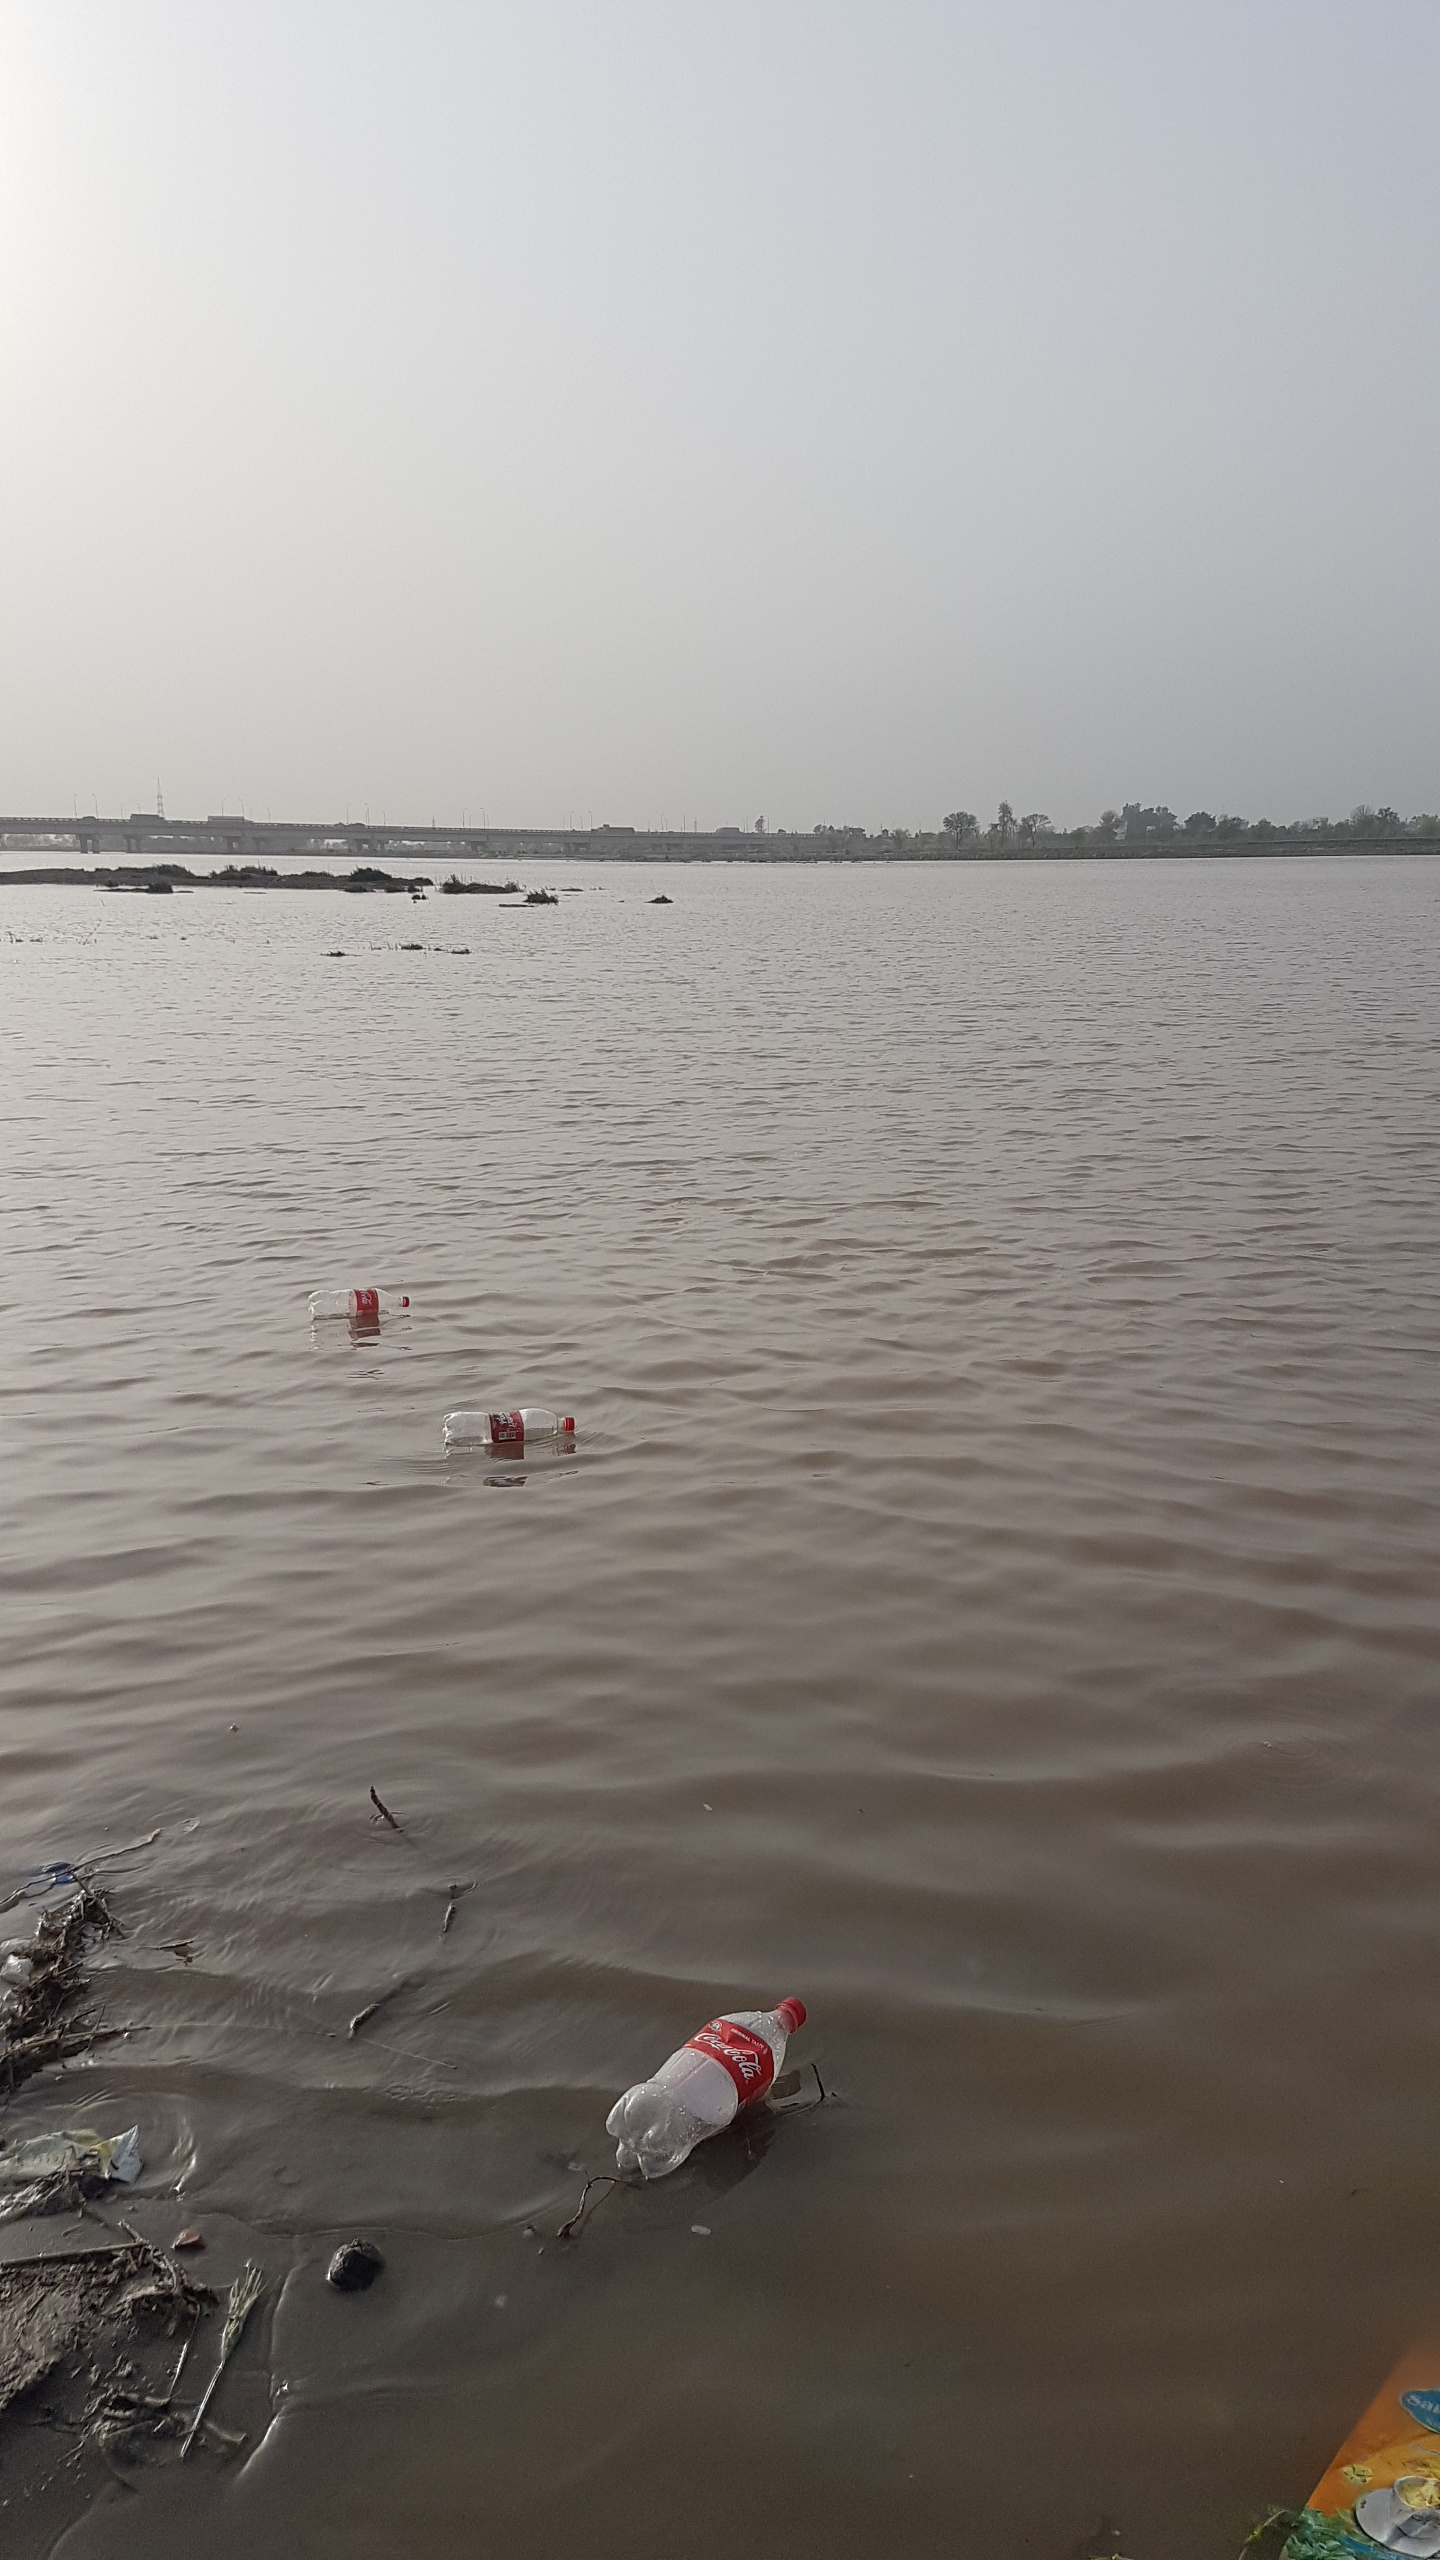Plastic Bottle: (605, 1997, 809, 2178), (441, 1407, 575, 1445), (308, 1287, 410, 1319)
